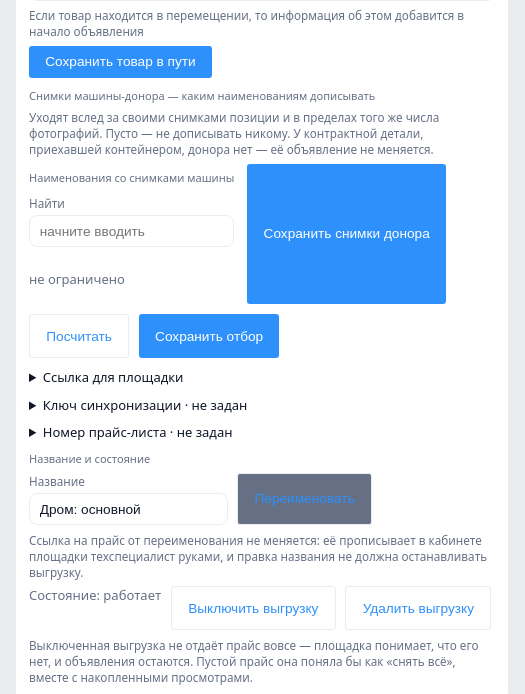
состав файла Дрома на экране «Выгрузки» › без нулевых цен красной строки нет
(page scrolled)
Click the button "Посчитать" at (79, 336), box [29, 314, 129, 358]
(page scrolled)
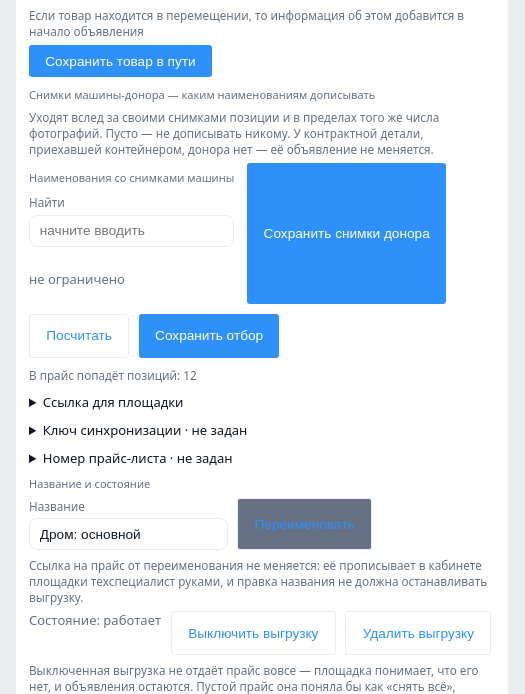
Expected: the text "В прайс попадёт позиций: 12" is shown, [29, 367, 197, 383]
